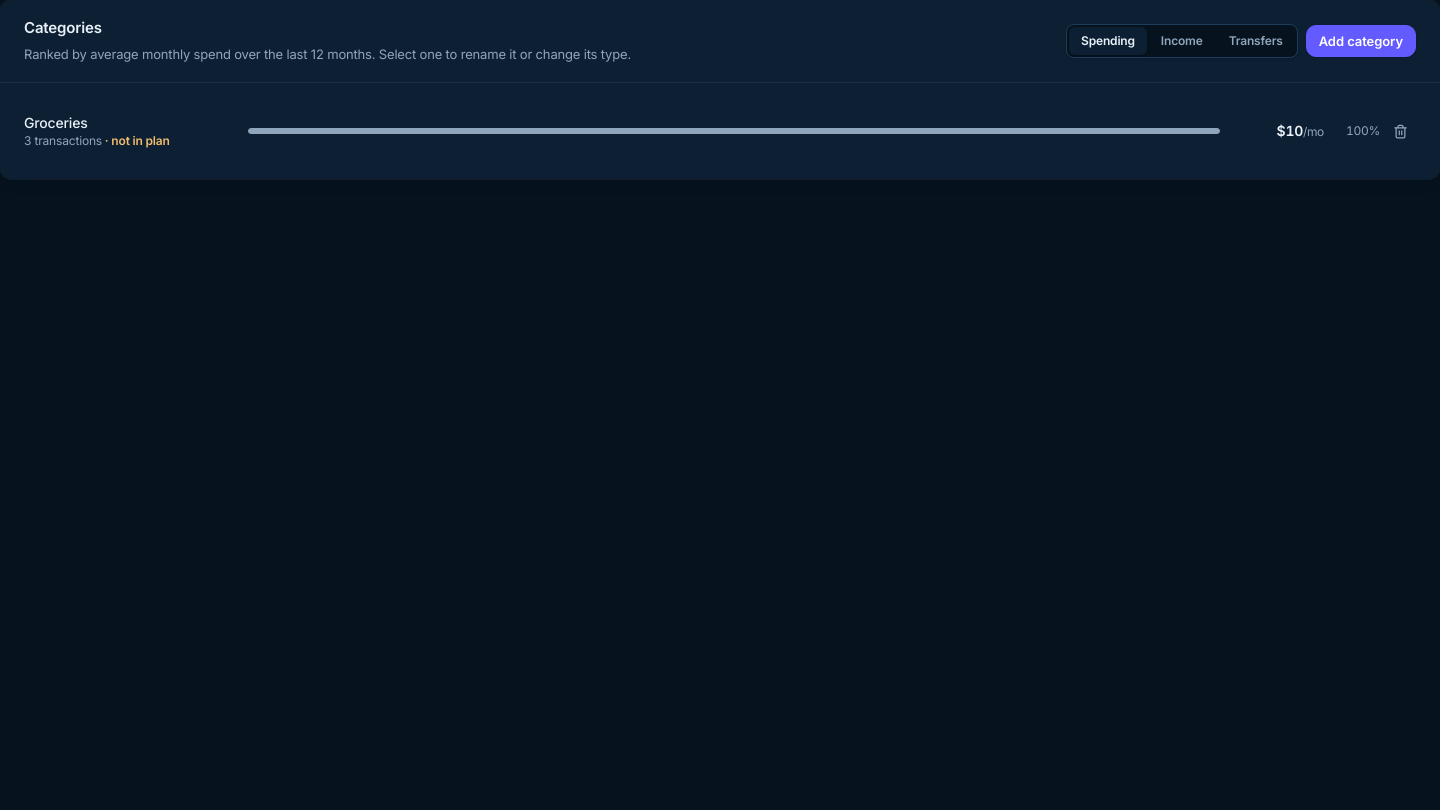
CategoriesSection › asks for confirmation before deleting a category
Click the button named "Delete Groceries". click: (1400, 131)
box: [1384,115,1416,147]
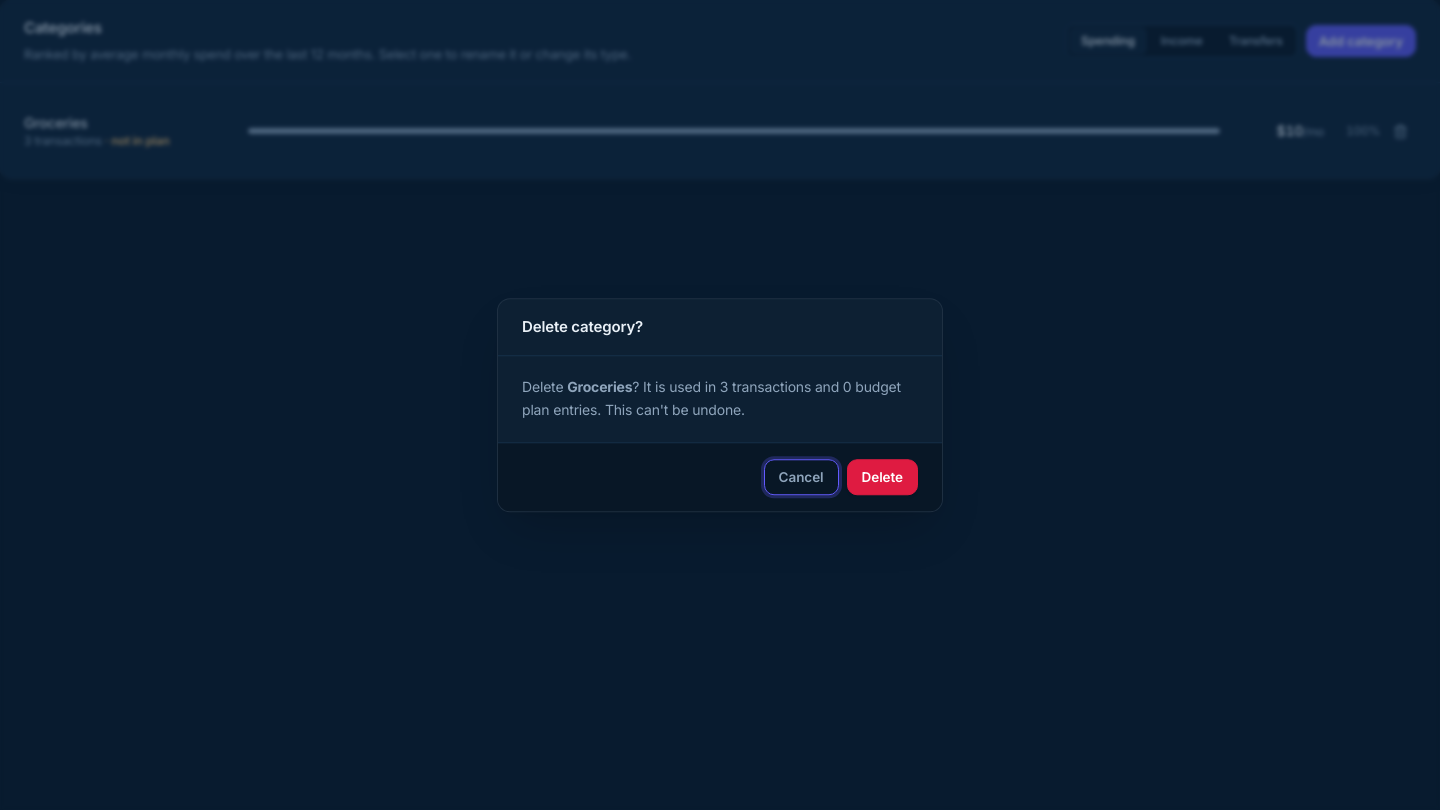
Result: the dialog "Delete category?" shows "Delete Groceries? It is used in 3 transactions" at [498,299,942,511]
